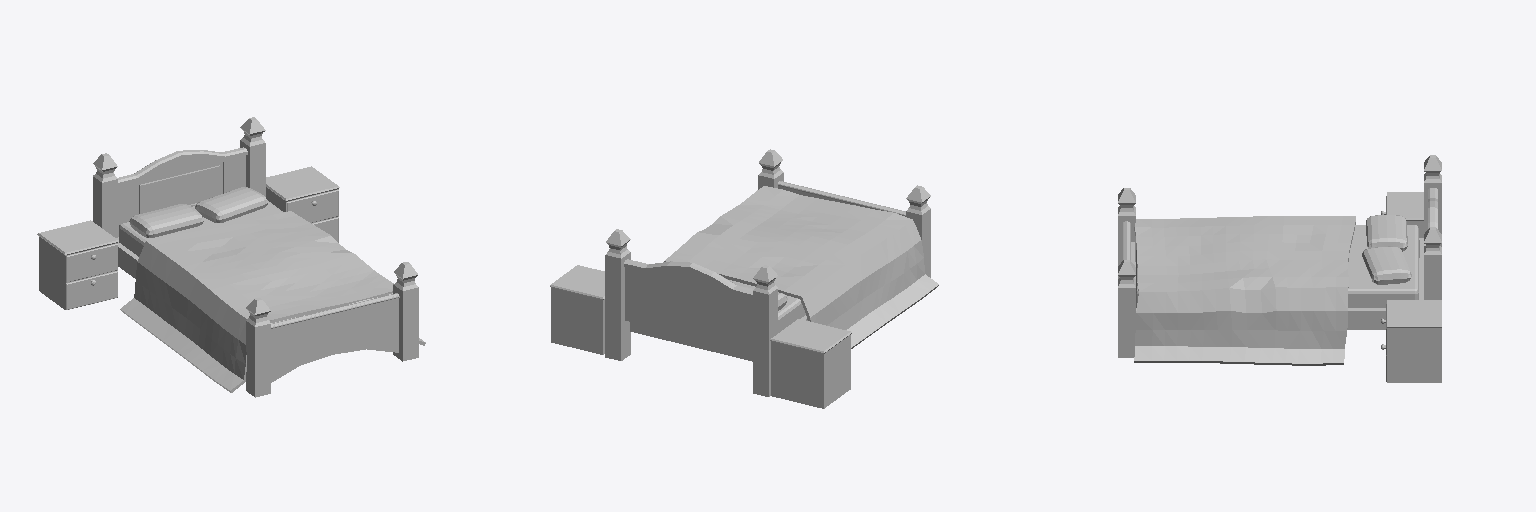
Rendered from bed.obj.
3 renders of one model, left to right at view 1: azimuth 30°, elevation 25°; view 2: azimuth 150°, elevation 25°; view 3: azimuth 270°, elevation 25°, orthographic.
Parts seen in each view (by area): view 1: Mesh; view 2: Mesh; view 3: Mesh.
Boxes of the visible parts, x1=… form: Mesh: x1=37, y1=117, x2=425, y2=397; Mesh: x1=550, y1=149, x2=938, y2=408; Mesh: x1=1118, y1=155, x2=1441, y2=382.
Size of the model in its own units: 2.8 by 1.23 by 2.86.